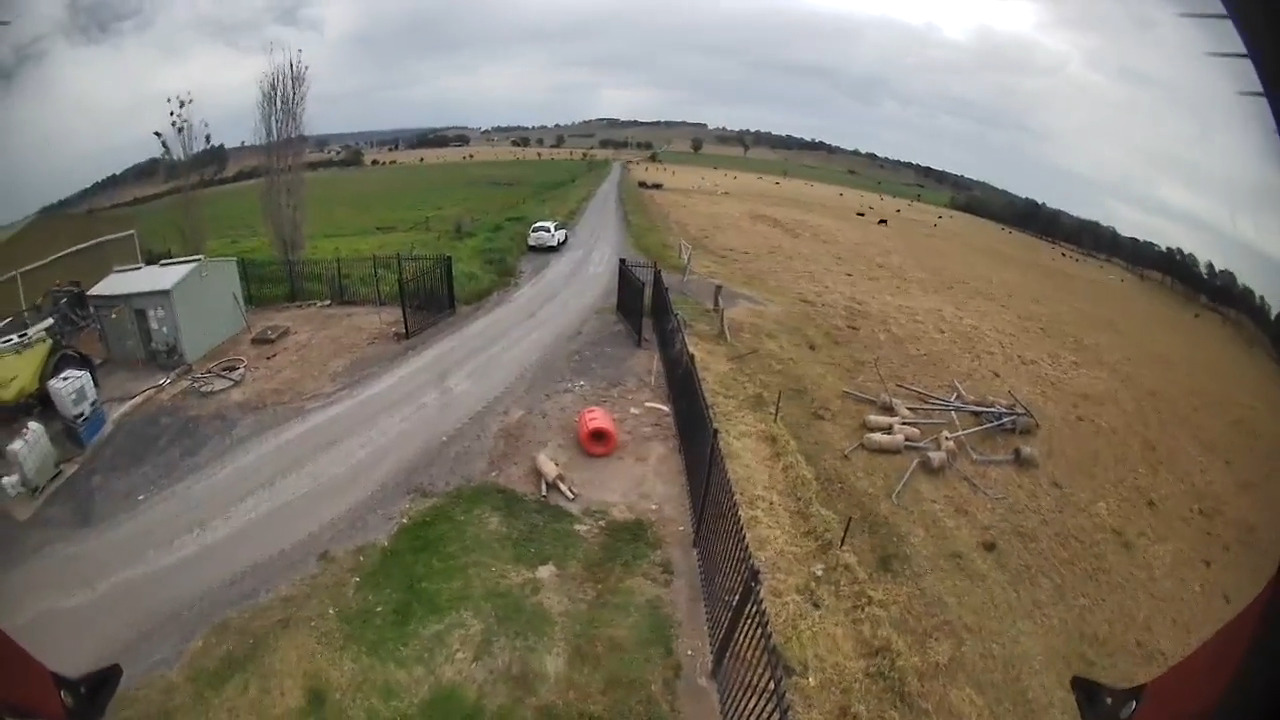Car: (527, 221, 567, 248)
